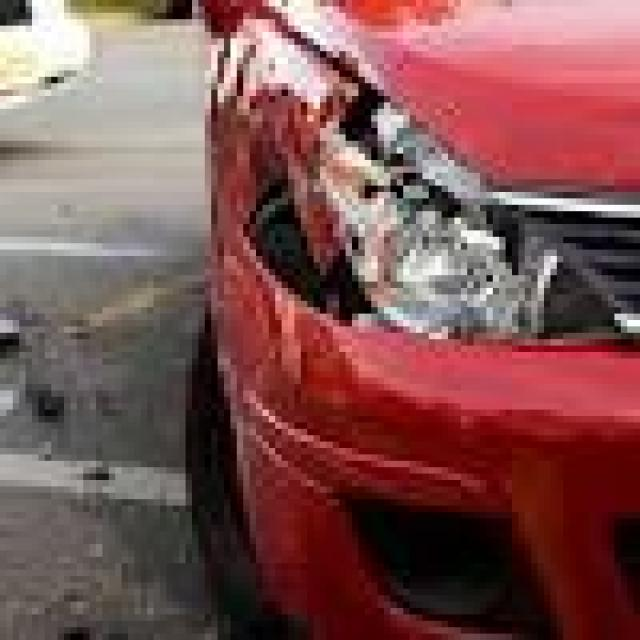minor: (208, 45, 512, 520)
